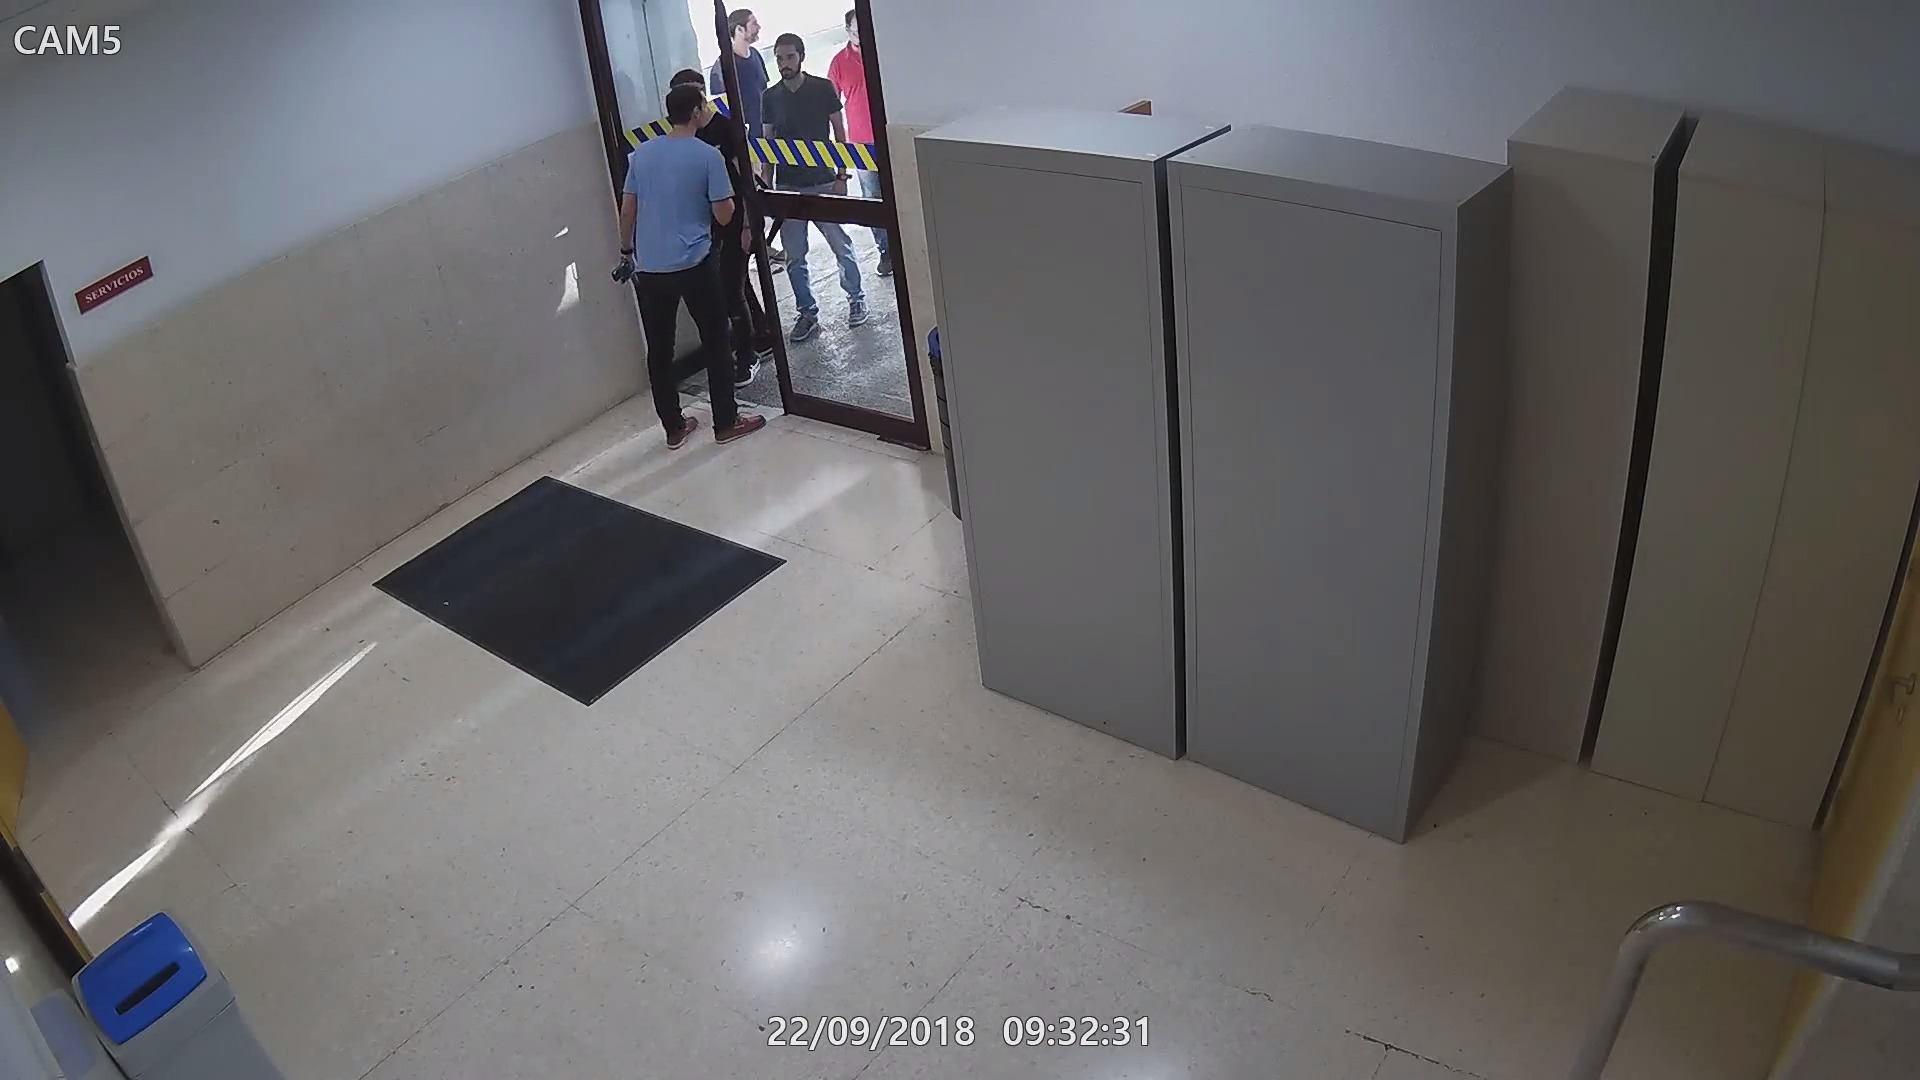Handgun: (607, 248, 637, 289)
Knife: (612, 255, 638, 297)
